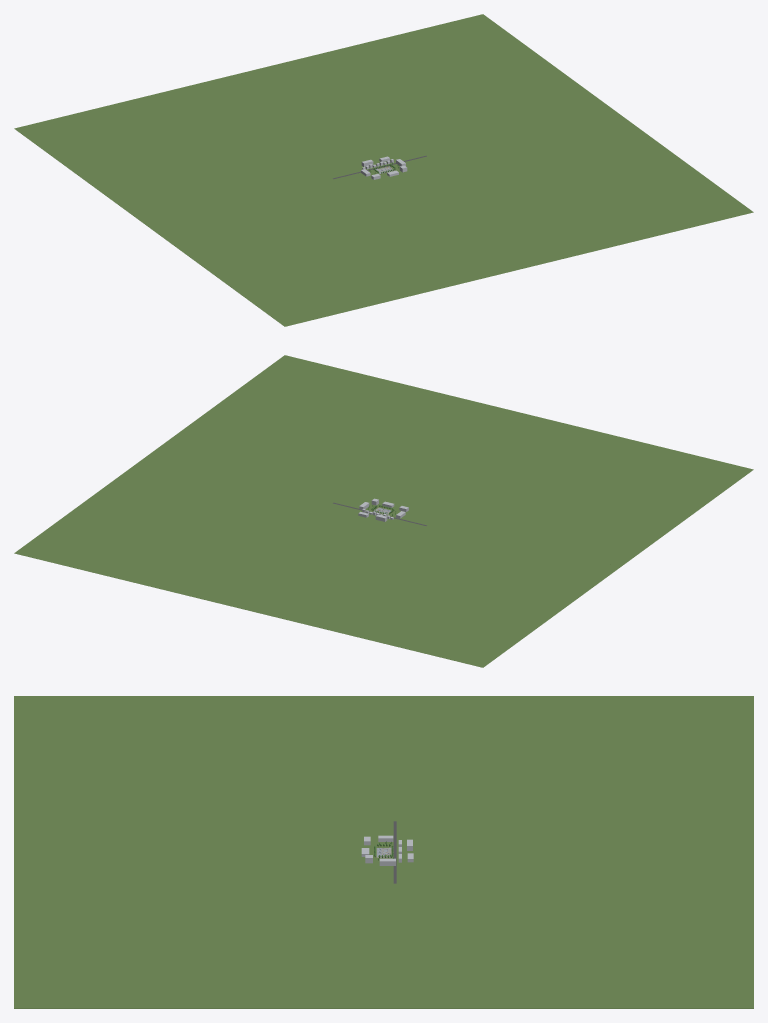
File: skate-park.glb
The picture shows the model from 3 angles, top to bottom: view 1: azimuth 30°, elevation 25°; view 2: azimuth 150°, elevation 25°; view 3: azimuth 270°, elevation 25°; orthographic projection. The views are drawn at different scales.
Visible parts, largest first — view 1: ground, ground_003, ground_001, ground_002; view 2: ground, ground_003, ground_001, ground_002; view 3: ground, ground_003, ground_002, ground_001.
Boxes of the visible parts, x1,y1,x2,y2 form: ground: (152,115,753,326); ground_003: (14,14,615,225); ground_001: (147,170,379,229); ground_002: (390,111,620,170); ground: (152,355,753,566); ground_003: (14,456,615,667); ground_001: (388,511,620,570); ground_002: (147,452,378,511); ground: (14,696,376,1008); ground_003: (391,696,753,1008); ground_002: (376,857,391,1008); ground_001: (376,696,391,847).
Bounding box in the file's own units: 2000 × 19.2 × 2000.
